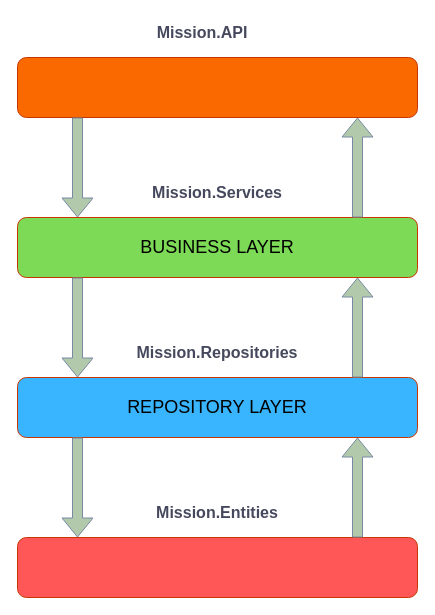
Image size: 435x615. Some labels were removed from this diagram. Here are the shapes that lost their labels. From the top down, the box of each, then its label:
(16, 56, 418, 118): PRESENTATION LAYER
(16, 536, 418, 598): ENTITY LAYER
